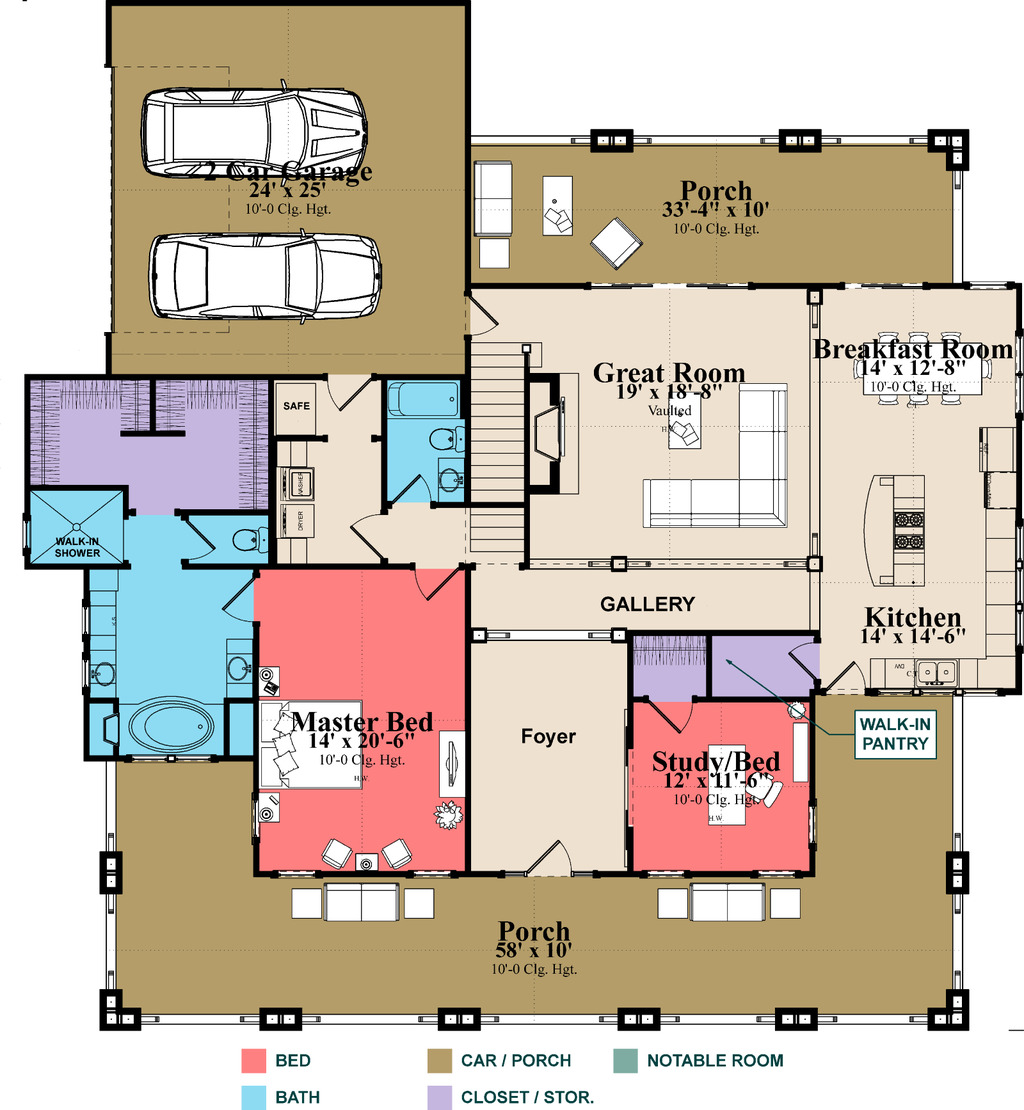bed: (256, 696, 392, 795)
dining_table: (846, 327, 1005, 417)
door: (777, 634, 836, 693), (526, 837, 594, 886), (173, 510, 227, 571), (651, 690, 712, 742), (407, 557, 471, 606), (351, 501, 397, 568), (319, 368, 387, 412), (217, 571, 266, 625), (819, 654, 870, 700), (461, 293, 507, 339), (394, 471, 439, 501)
kitchen_bar: (858, 452, 939, 590)
large_sink: (221, 513, 277, 562), (419, 408, 468, 457)
small_sink: (429, 457, 473, 513), (83, 652, 121, 698), (224, 644, 253, 696)
small_sofa: (472, 152, 522, 240), (321, 876, 402, 924), (692, 883, 772, 927)
stairs: (470, 342, 572, 561)
tub: (387, 369, 470, 418)
twin_sink: (902, 652, 975, 688)
